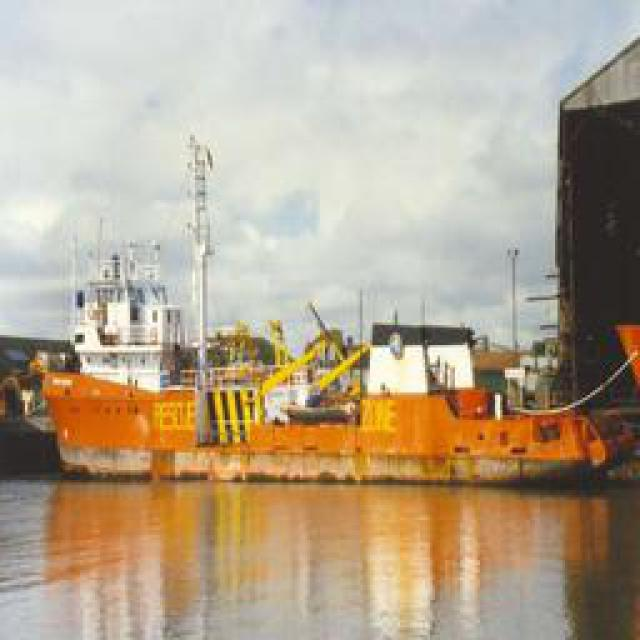Ship: (45, 357, 613, 487)
